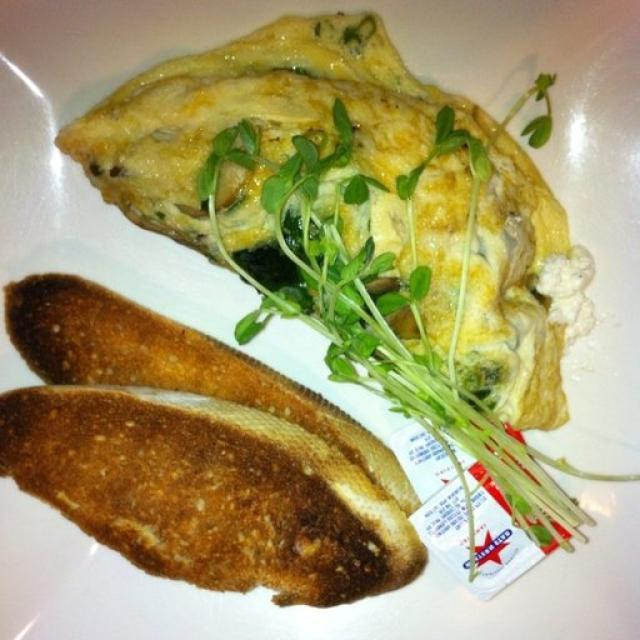telur_ayam_dadar: (135, 14, 584, 367)
